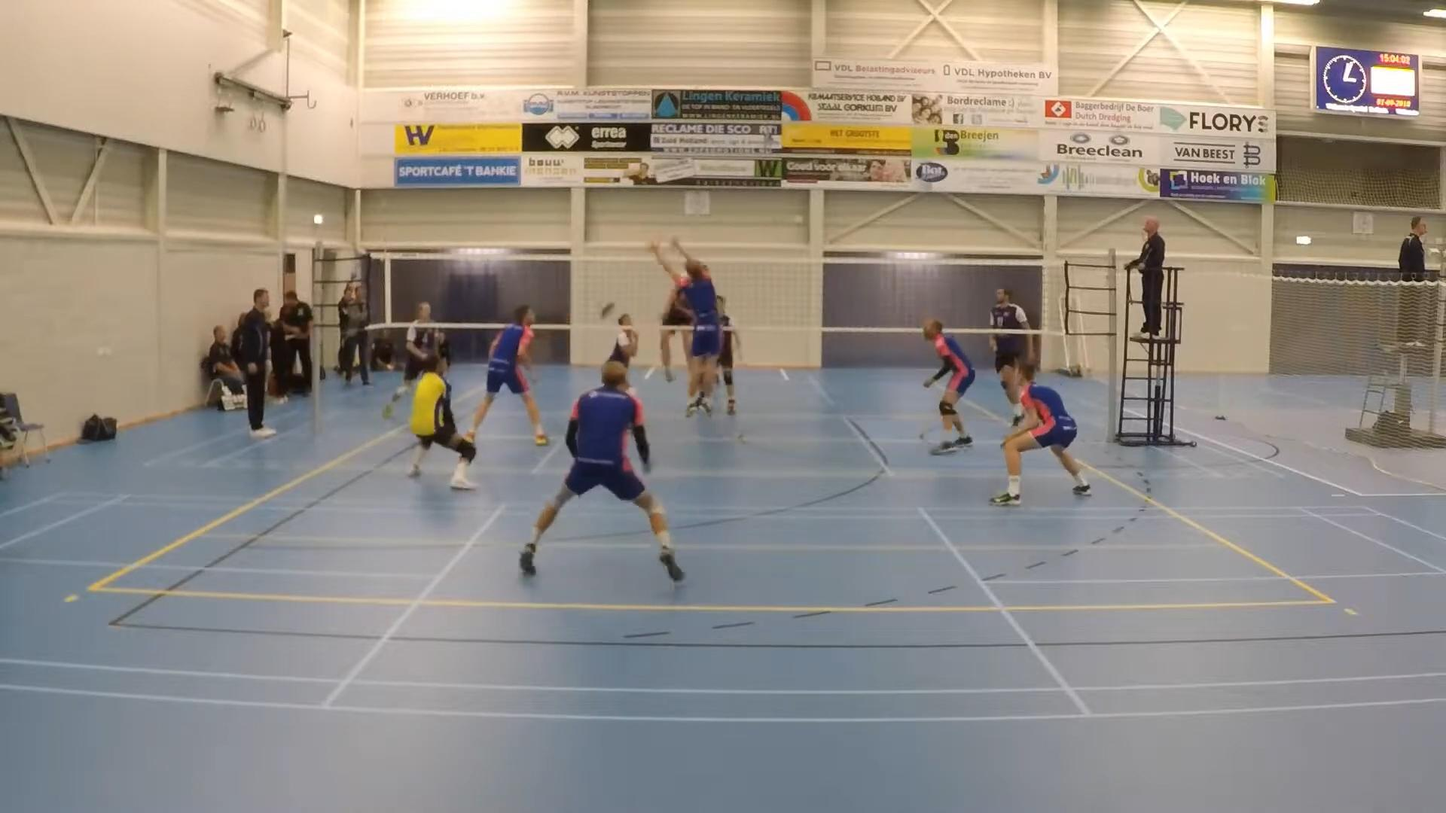attacco: (648, 243, 705, 382)
muro: (632, 231, 746, 420)
